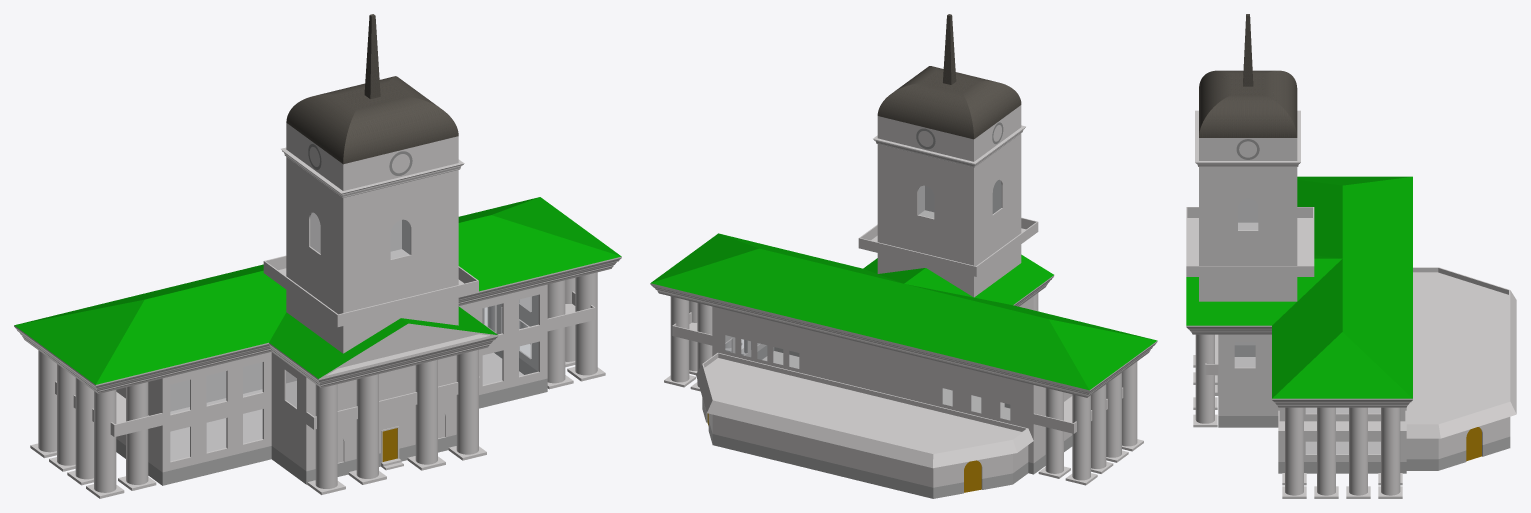
The model's file is ratusha-minsk.glb.
3 renders of one model, left to right at view 1: azimuth 30°, elevation 25°; view 2: azimuth 150°, elevation 25°; view 3: azimuth 270°, elevation 25°, orthographic. The views are drawn at different scales.
Visible parts, largest first — view 1: Geom3D (×5); view 2: Geom3D (×6); view 3: Geom3D (×6).
Part boxes in pixels (x1,y1,x2,y2): Geom3D (×5): (14, 14, 621, 498); Geom3D (×6): (650, 14, 1157, 498); Geom3D (×6): (1186, 14, 1516, 498).
Bounding box in the file's own units: 41 × 32.5 × 25.8.
7 materials, 1 textured.
